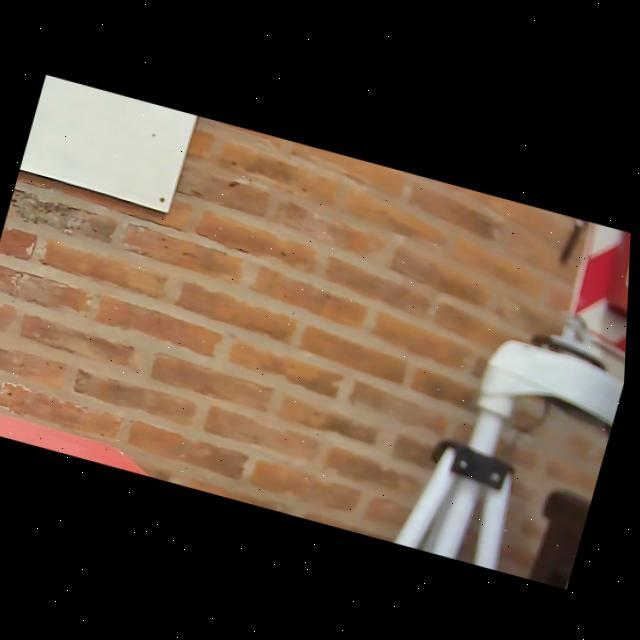redBox: (0, 392, 205, 485)
